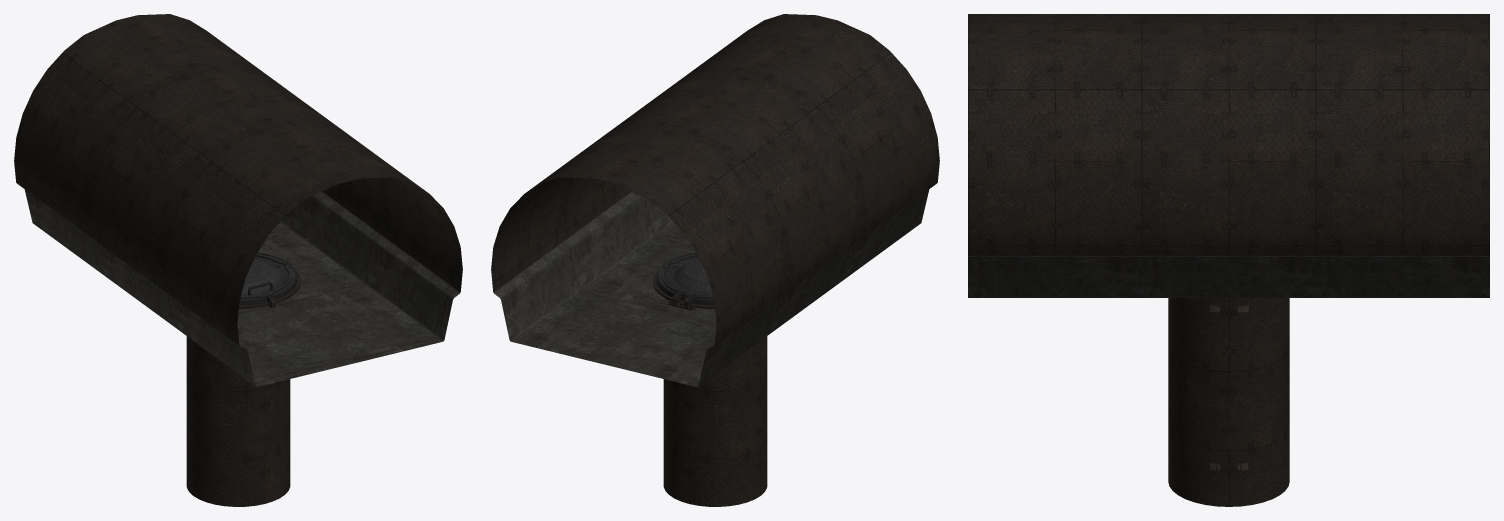
File: tunnel_manhole_shaft_end_1.dae
3 views of the same model, side by side, from view 1: azimuth 30°, elevation 25°; view 2: azimuth 150°, elevation 25°; view 3: azimuth 270°, elevation 25° (orthographic). The views are drawn at different scales.
Visible parts, largest first — view 1: tunnel_manhole_shaft_end_1, tunnel_manhole_cover_1; view 2: tunnel_manhole_shaft_end_1, tunnel_manhole_cover_1; view 3: tunnel_manhole_shaft_end_1.
Part boxes in pixels (<box>): tunnel_manhole_shaft_end_1: <box>14,14,462,506</box>; tunnel_manhole_cover_1: <box>239,252,297,306</box>; tunnel_manhole_shaft_end_1: <box>491,14,939,506</box>; tunnel_manhole_cover_1: <box>656,252,714,305</box>; tunnel_manhole_shaft_end_1: <box>968,14,1489,506</box>.
Size of the model in its own units: 3.5 by 6 by 5.72.
Materials: 5 (5 with a texture image).
